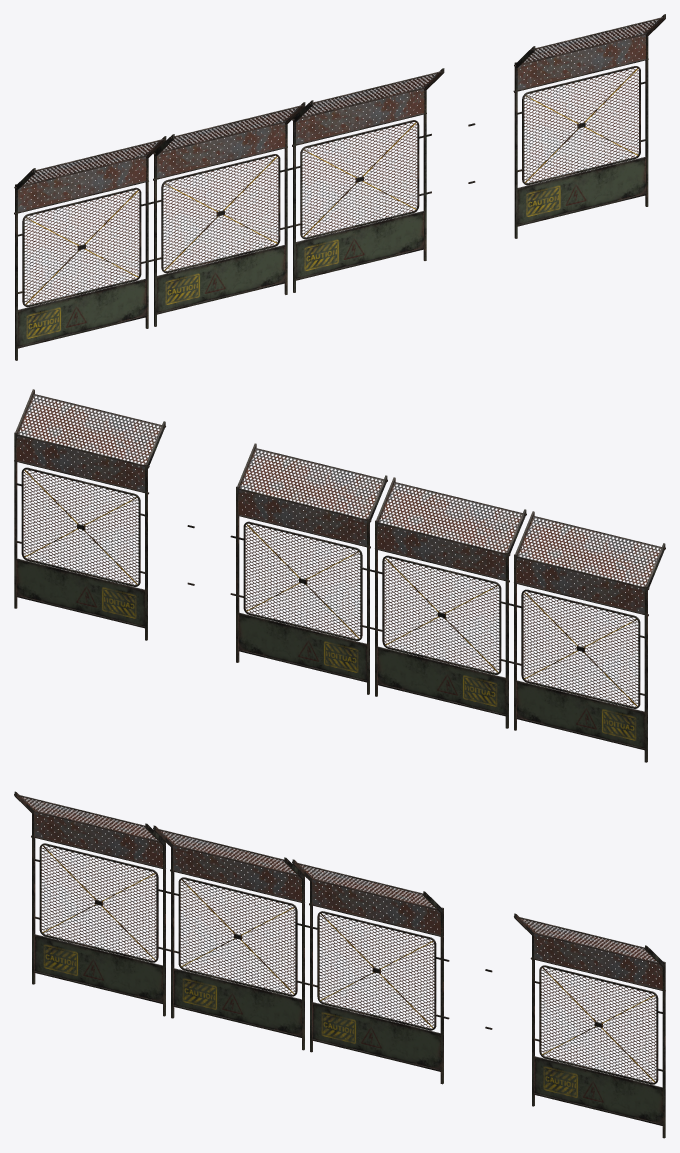
File: cerca_b.glb
3 renders of one model, top to bottom at view 1: azimuth 30°, elevation 25°; view 2: azimuth 150°, elevation 25°; view 3: azimuth 330°, elevation 25°, orthographic.
Parts seen in each view (by area): view 1: 02_4_01_0, 02_3_01_0, 02_01_0, 02_2_01_0, 02_4_02_0, 02_3_02_0, 02_2_02_0, 02_02_0; view 2: 02_2_01_0, 02_3_01_0, 02_01_0, 02_4_01_0, 02_02_0, 02_2_02_0, 02_3_02_0, 02_4_02_0; view 3: 02_01_0, 02_2_01_0, 02_3_01_0, 02_4_01_0, 02_3_02_0, 02_2_02_0, 02_02_0, 02_4_02_0.
Boxes of the visible parts, box(x1,y1,x2,y2) form: 02_4_01_0: box(517, 19, 660, 183); 02_3_01_0: box(296, 73, 438, 237); 02_01_0: box(157, 107, 299, 271); 02_2_01_0: box(18, 141, 160, 305); 02_4_02_0: box(513, 14, 665, 238); 02_3_02_0: box(292, 68, 444, 292); 02_2_02_0: box(14, 136, 166, 360); 02_02_0: box(153, 102, 305, 326); 02_2_01_0: box(516, 516, 661, 707); 02_3_01_0: box(238, 449, 383, 639); 02_01_0: box(377, 482, 522, 673); 02_4_01_0: box(16, 394, 161, 585); 02_02_0: box(369, 477, 526, 728); 02_2_02_0: box(508, 511, 665, 762); 02_3_02_0: box(230, 443, 387, 694); 02_4_02_0: box(14, 389, 165, 640); 02_01_0: box(159, 830, 301, 994); 02_2_01_0: box(20, 796, 162, 960); 02_3_01_0: box(298, 864, 440, 1028); 02_4_01_0: box(519, 918, 662, 1082); 02_3_02_0: box(292, 859, 449, 1084); 02_2_02_0: box(14, 791, 170, 1016); 02_02_0: box(153, 825, 309, 1050); 02_4_02_0: box(514, 913, 665, 1138).
Size of the model in its own units: 17.56 by 5.44 by 0.8944.
Materials: 2 (2 with a texture image).
